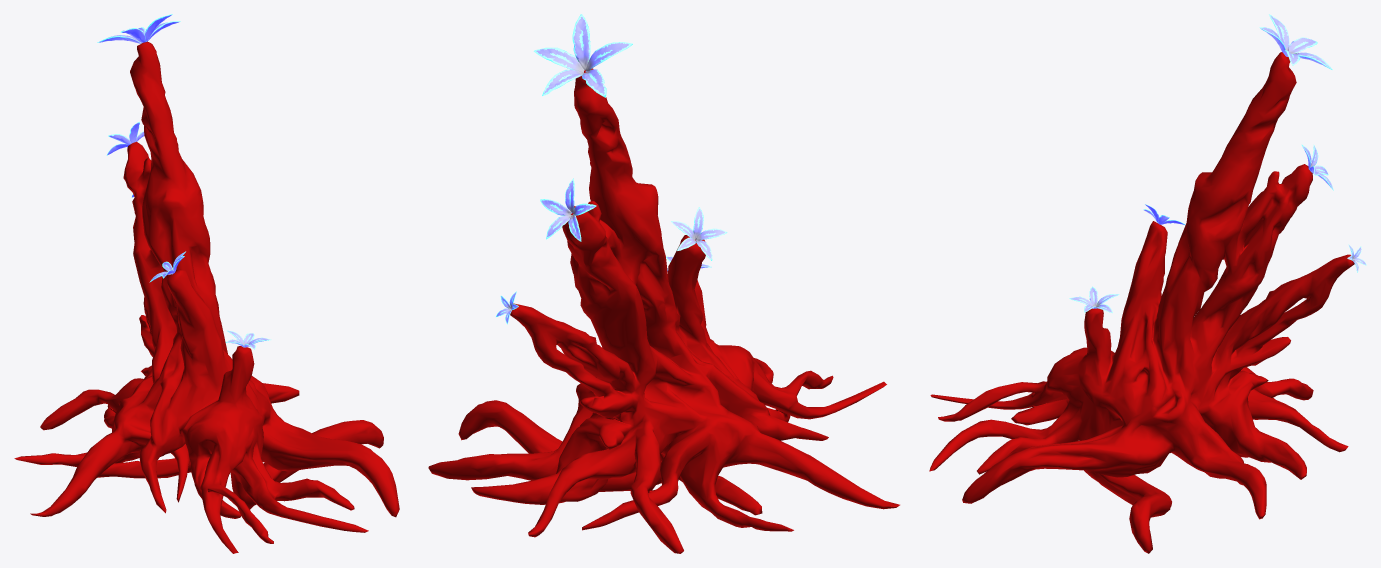
Rendered from SM_Tree_B.fbx.
The picture shows the model from 3 angles, left to right: view 1: azimuth 30°, elevation 25°; view 2: azimuth 150°, elevation 25°; view 3: azimuth 270°, elevation 25°; orthographic projection. The views are drawn at different scales.
Visible parts, largest first — view 1: SM_Tree_B_0_LOD0; view 2: SM_Tree_B_0_LOD0; view 3: SM_Tree_B_0_LOD0.
Part boxes in pixels (bbox=[...]): SM_Tree_B_0_LOD0: bbox=[14, 14, 399, 553]; SM_Tree_B_0_LOD0: bbox=[428, 14, 899, 553]; SM_Tree_B_0_LOD0: bbox=[929, 14, 1366, 553].
Size of the model in its own units: 508 by 515 by 603.
